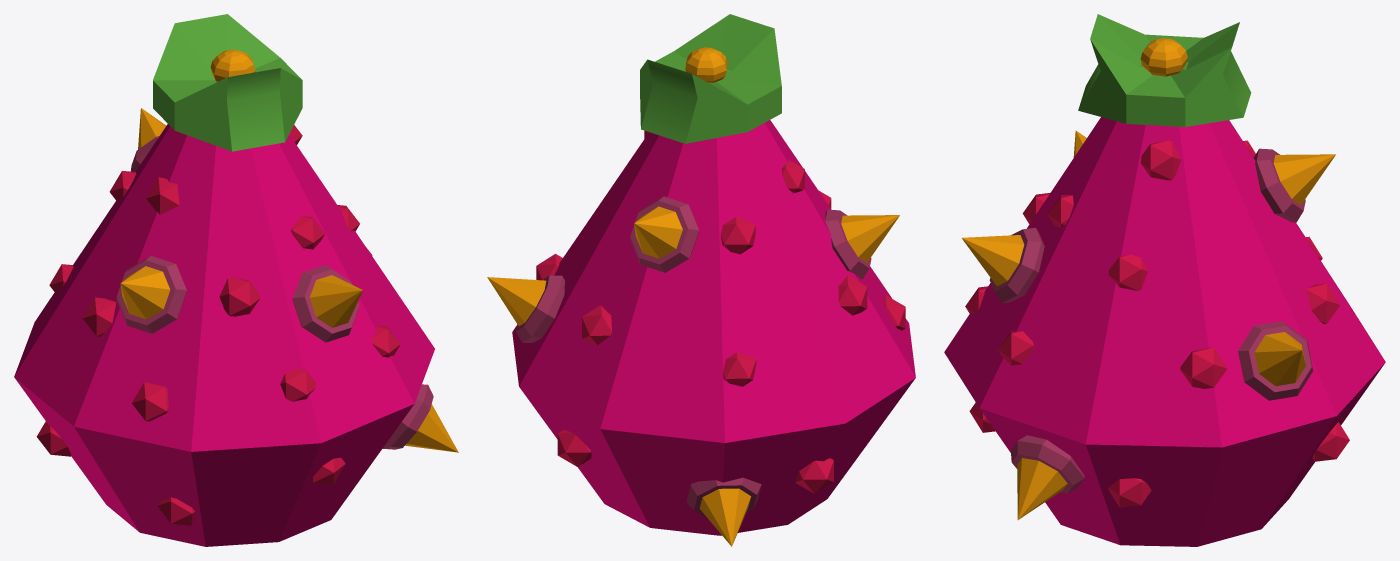
The model's file is Gidius.fbx.
The picture shows the model from 3 angles, left to right: view 1: azimuth 30°, elevation 25°; view 2: azimuth 150°, elevation 25°; view 3: azimuth 270°, elevation 25°; orthographic projection. The views are drawn at different scales.
Visible parts, largest first — view 1: pCylinder7, pCylinder8, pCone6, pCone8, pCone4, pPlatonic3, pPlatonic18, pSphere3, pCone5, pPlatonic6, pPlatonic4, pPlatonic5 (+5 smaller); view 2: pCylinder7, pCylinder8, pCone5, pCone3, pCone7, pCone6, pSphere3, pPlatonic8, pPlatonic16, pPlatonic9, pPlatonic6, pPlatonic7 (+2 smaller); view 3: pCylinder7, pCylinder8, pCone3, pCone4, pCone8, pCone5, pSphere3, pPlatonic10, pPlatonic12, pPlatonic11, pPlatonic13, pPlatonic9 (+3 smaller).
Part boxes in pixels (x1,y1,x2,y2): pCylinder7: (14, 124, 434, 546); pCylinder8: (153, 14, 302, 151); pCone6: (116, 256, 186, 333); pCone8: (292, 265, 362, 342); pCone4: (382, 384, 458, 452); pPlatonic3: (219, 277, 260, 316); pPlatonic18: (131, 382, 168, 421); pSphere3: (210, 49, 255, 81); pCone5: (130, 108, 166, 171); pPlatonic6: (82, 297, 116, 336); pPlatonic4: (280, 368, 315, 401); pPlatonic5: (146, 177, 179, 214); pCylinder7: (512, 120, 915, 535); pCylinder8: (640, 14, 781, 143); pCone5: (630, 196, 698, 272); pCone3: (487, 275, 564, 342); pCone7: (686, 477, 761, 546); pCone6: (825, 209, 899, 279); pSphere3: (685, 47, 727, 82); pPlatonic8: (720, 217, 755, 254); pPlatonic16: (795, 458, 833, 493); pPlatonic9: (582, 305, 611, 345); pPlatonic6: (838, 275, 867, 315); pPlatonic7: (722, 352, 756, 386); pCylinder7: (944, 117, 1385, 546); pCylinder8: (1078, 14, 1251, 126); pCone3: (1238, 321, 1313, 400); pCone4: (1010, 435, 1084, 519); pCone8: (962, 227, 1044, 303); pCone5: (1253, 148, 1335, 222); pSphere3: (1140, 38, 1187, 76); pPlatonic10: (1180, 347, 1227, 388); pPlatonic12: (1141, 140, 1181, 180); pPlatonic11: (1108, 254, 1147, 290); pPlatonic13: (1108, 478, 1151, 507); pPlatonic9: (1306, 283, 1339, 324).
Bounding box in the file's own units: 4.15 × 5.01 × 4.29.
